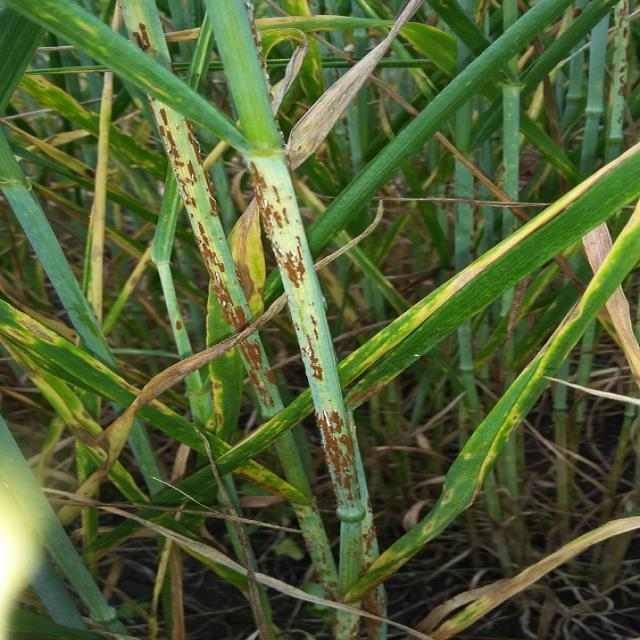Stem_Rust: (250, 156, 364, 600), (148, 97, 252, 331), (237, 335, 273, 407)
